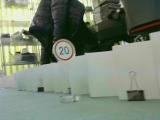speed_20: (52, 38, 75, 62)
